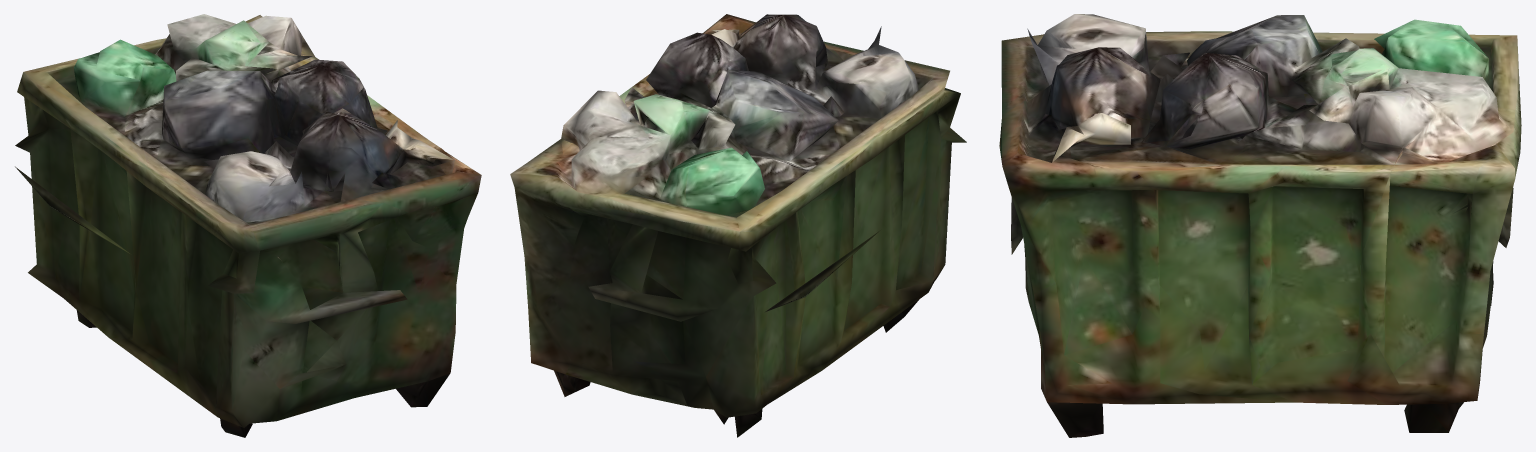
The model's file is e_dumpster.glb.
3 views of the same model, side by side, from view 1: azimuth 30°, elevation 25°; view 2: azimuth 150°, elevation 25°; view 3: azimuth 270°, elevation 25° (orthographic). The views are drawn at different scales.
Visible parts, largest first — view 1: tripo_node_88fa5797-7468-4d5f-afb6-af72a9f96956; view 2: tripo_node_88fa5797-7468-4d5f-afb6-af72a9f96956; view 3: tripo_node_88fa5797-7468-4d5f-afb6-af72a9f96956.
Part boxes in pixels (x1,y1,x2,y2): tripo_node_88fa5797-7468-4d5f-afb6-af72a9f96956: [15, 14, 481, 437]; tripo_node_88fa5797-7468-4d5f-afb6-af72a9f96956: [510, 14, 966, 437]; tripo_node_88fa5797-7468-4d5f-afb6-af72a9f96956: [999, 14, 1521, 437].
Size of the model in its own units: 0.6755 by 0.7647 by 1.
1 material, 1 textured.
